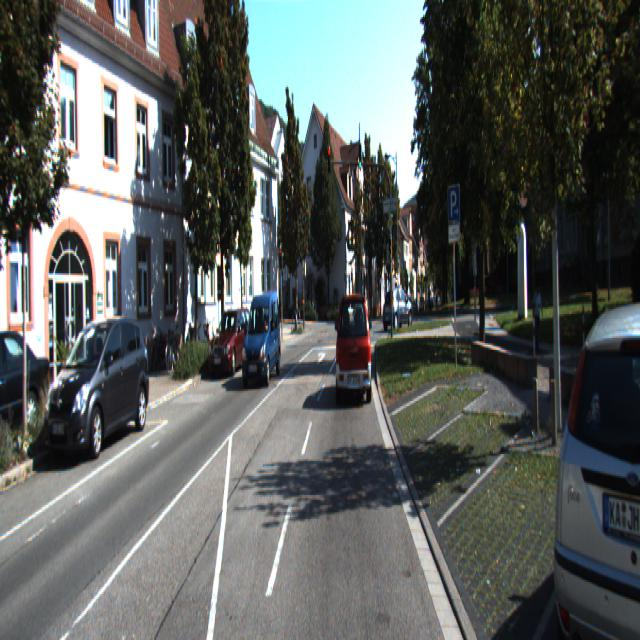Car: (546, 297, 640, 638), (42, 316, 152, 464), (0, 329, 52, 456), (241, 290, 282, 388), (338, 294, 373, 406), (206, 312, 256, 381), (382, 286, 415, 332)
